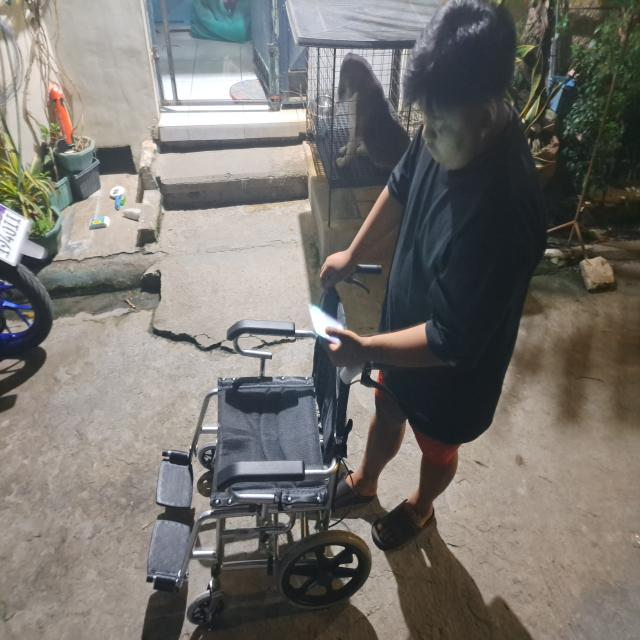wheelchairs: (146, 260, 385, 611)
